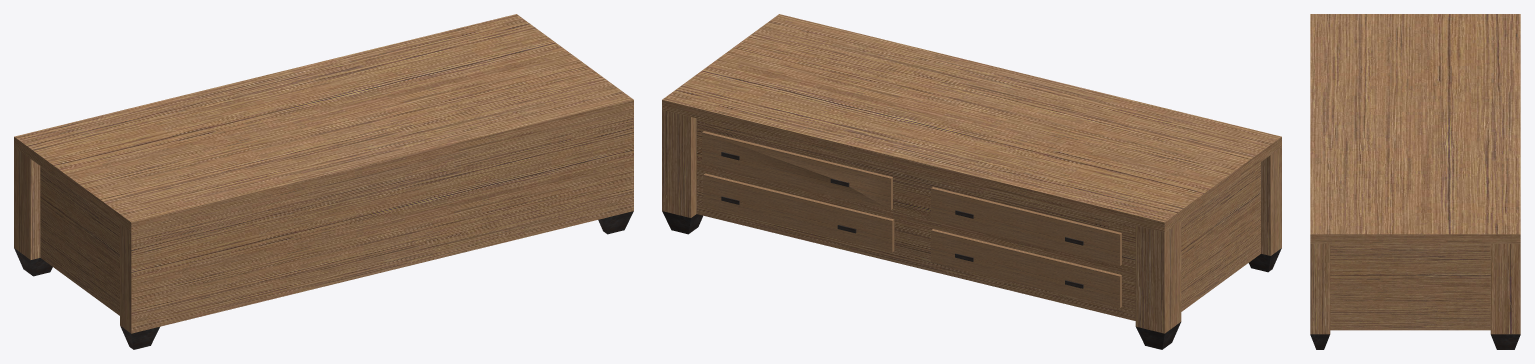
File: Dresser.FBX
3 views of the same model, side by side, from view 1: azimuth 30°, elevation 25°; view 2: azimuth 150°, elevation 25°; view 3: azimuth 270°, elevation 25° (orthographic). The views are drawn at different scales.
Visible parts, largest first — view 1: Box004; view 2: Box004; view 3: Box004.
Boxes of the visible parts, x1,y1,x2,y2 form: Box004: (14,14,633,349); Box004: (662,14,1281,349); Box004: (1310,14,1520,349).
Size of the model in its own units: 52 by 13 by 21.
Materials: 2 (2 with a texture image).
